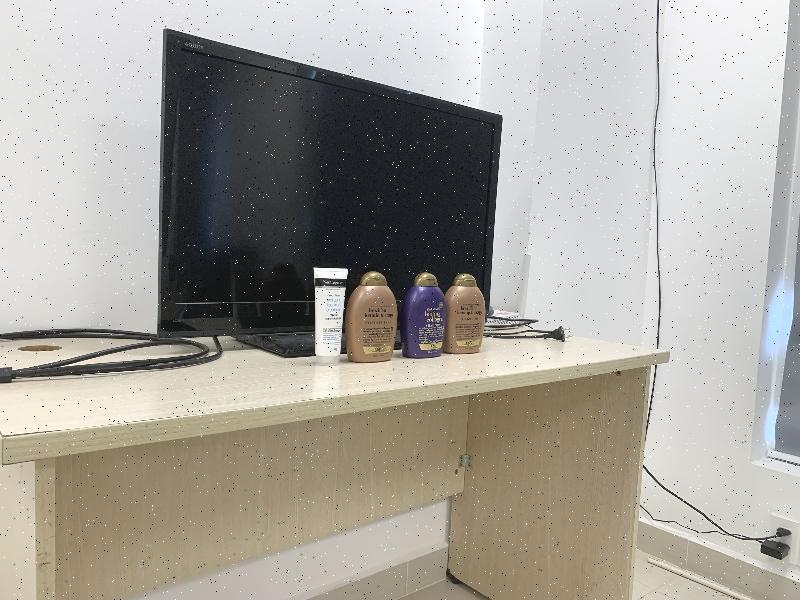BiotinCollagen_Shampoo: (401, 272, 446, 358)
BrazilianKeratinTherapy_Shampoo: (446, 273, 485, 354)
BrazilianKerationTherapy_Conditioner: (346, 271, 397, 363)
HydratingFoamingCleanser: (313, 267, 347, 365)
